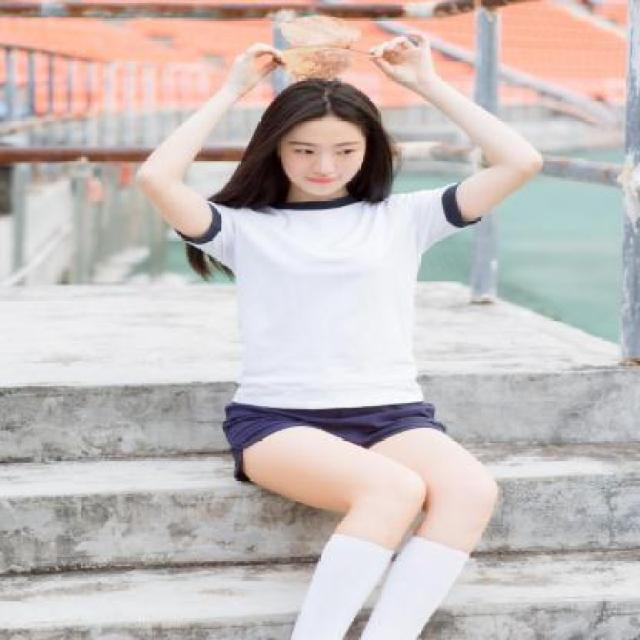Person: (97, 1, 552, 639)
